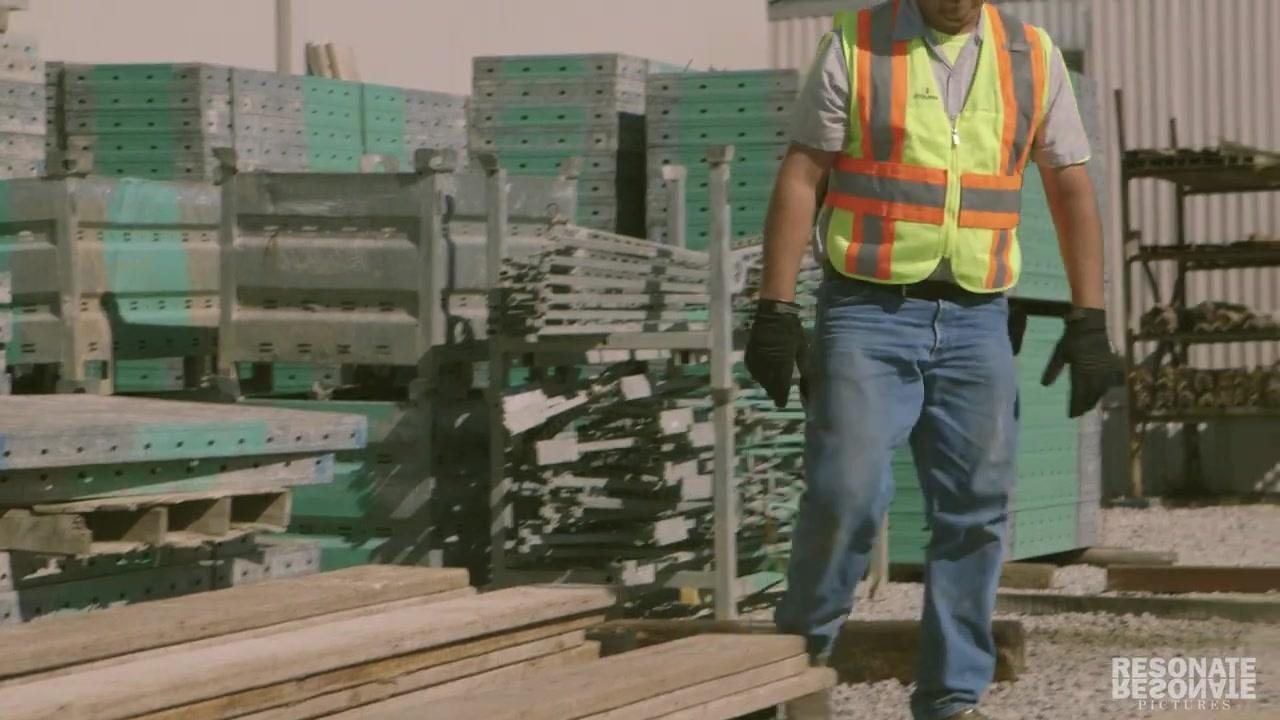vest: (805, 1, 1055, 294)
